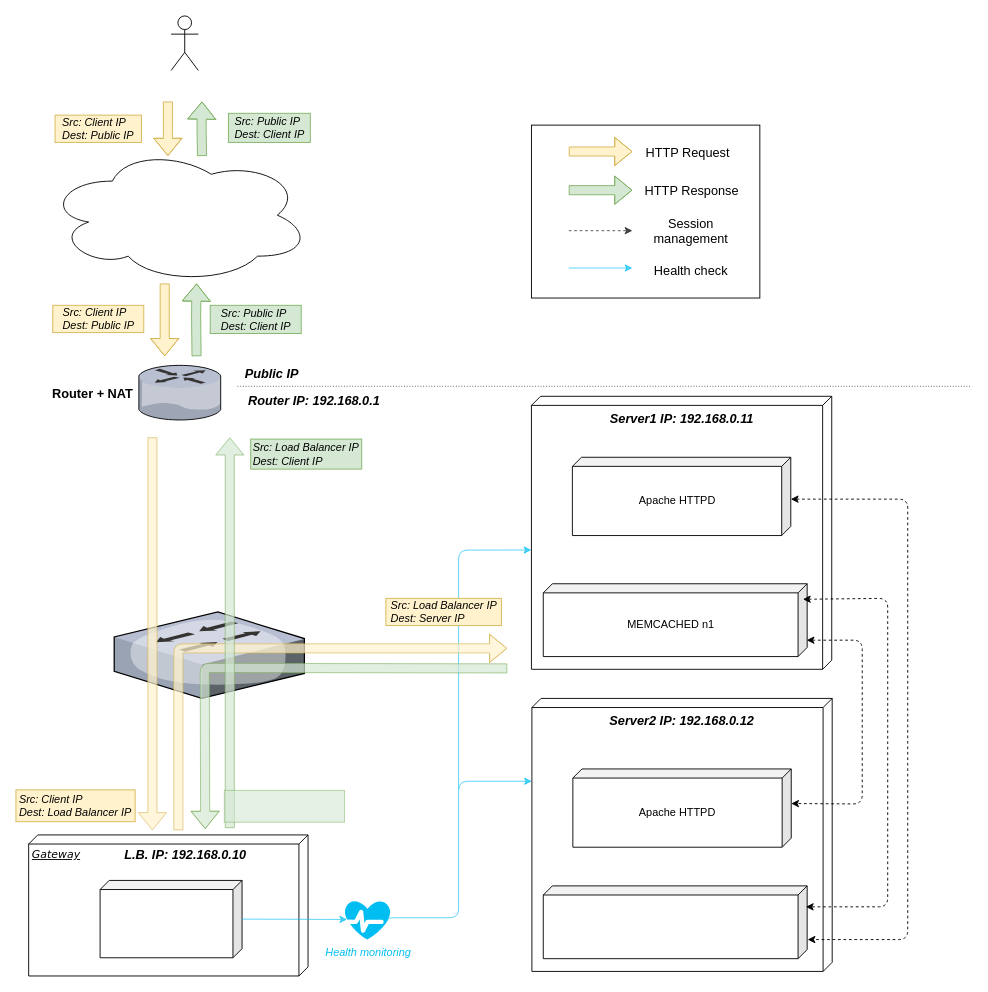
Some shapes in this 988 by 992 pixel diagram are drawn without their labels. Here are the shapes that lost their labels. From the top down, the centre of each, then its label:
(184,43): Client
(178,214): Internet
(209,655): Switch
(283,805): Src: Server IP Dest: Load Balancer IP
(170,919): HAProxy
(674,922): MEMCACHED n2
